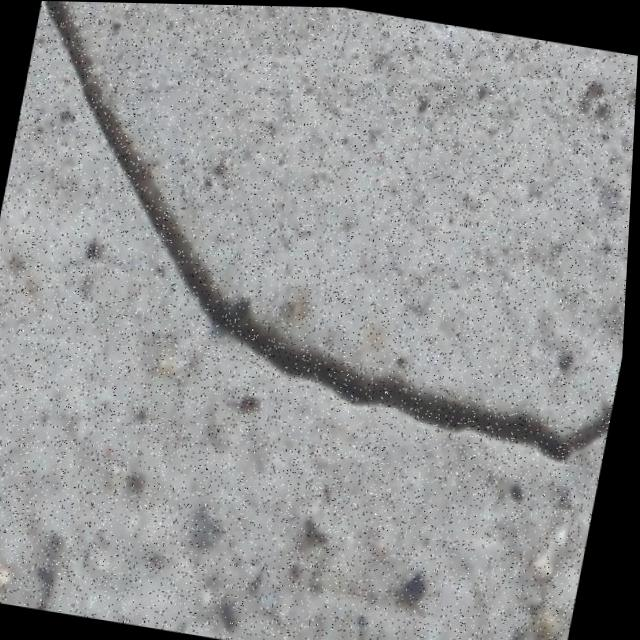Crack: (0, 0, 640, 504)
